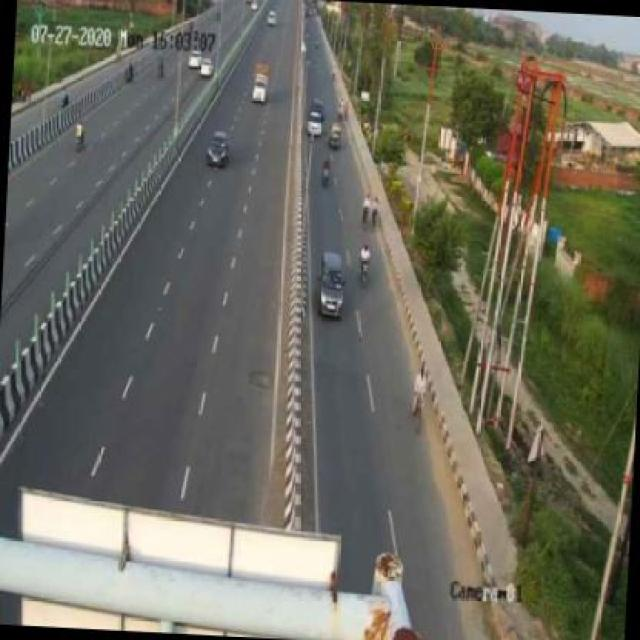car: (309, 244, 348, 322), (243, 59, 272, 110), (206, 132, 231, 170)
